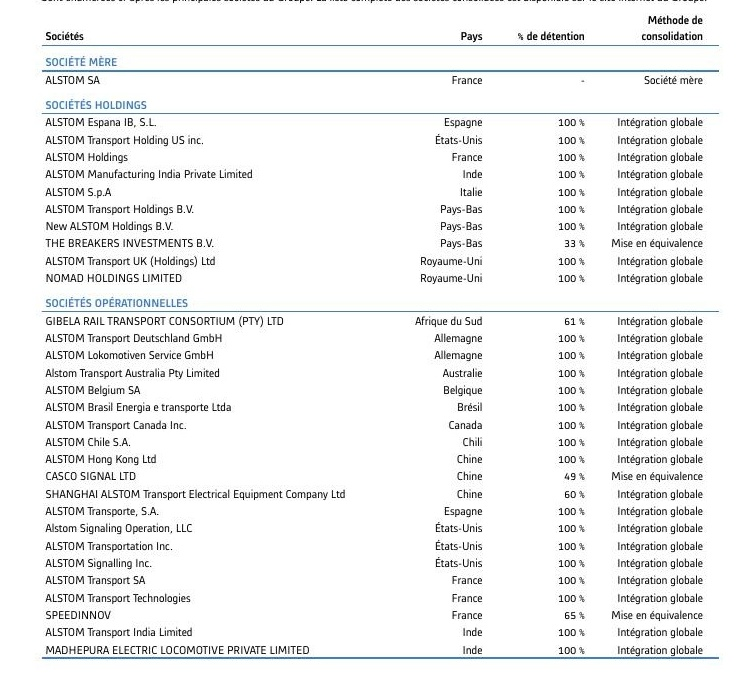table: (0, 0, 739, 682)
